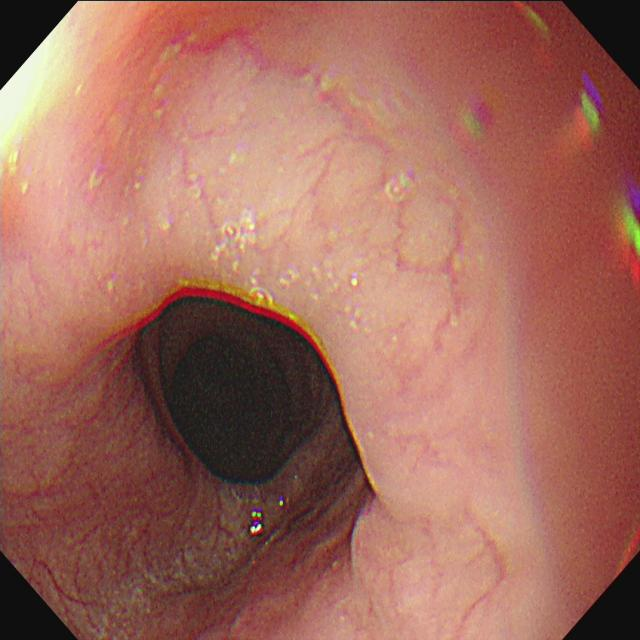E: (168, 338, 256, 463)
J: (97, 489, 263, 640)
U: (615, 185, 640, 290), (577, 72, 602, 151), (250, 508, 265, 537)
